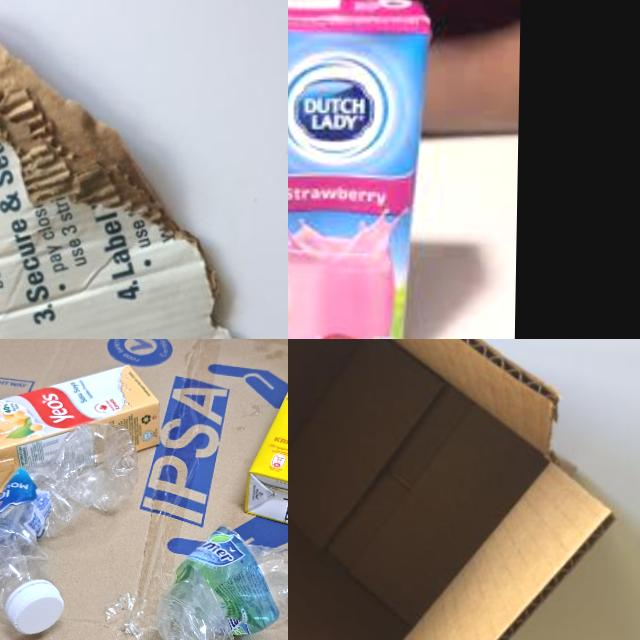caixinha: (288, 0, 428, 339), (0, 361, 162, 497), (242, 363, 288, 532)
garrafa plástica: (0, 421, 139, 612), (149, 522, 288, 640)
papelão: (288, 339, 616, 640), (0, 339, 288, 640), (0, 0, 247, 339)
tampa plástica: (5, 581, 64, 635)
